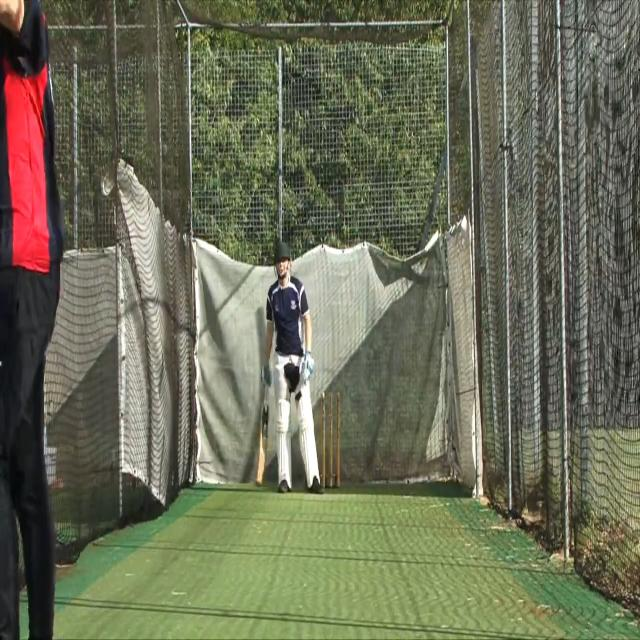batsman: (255, 239, 325, 497)
